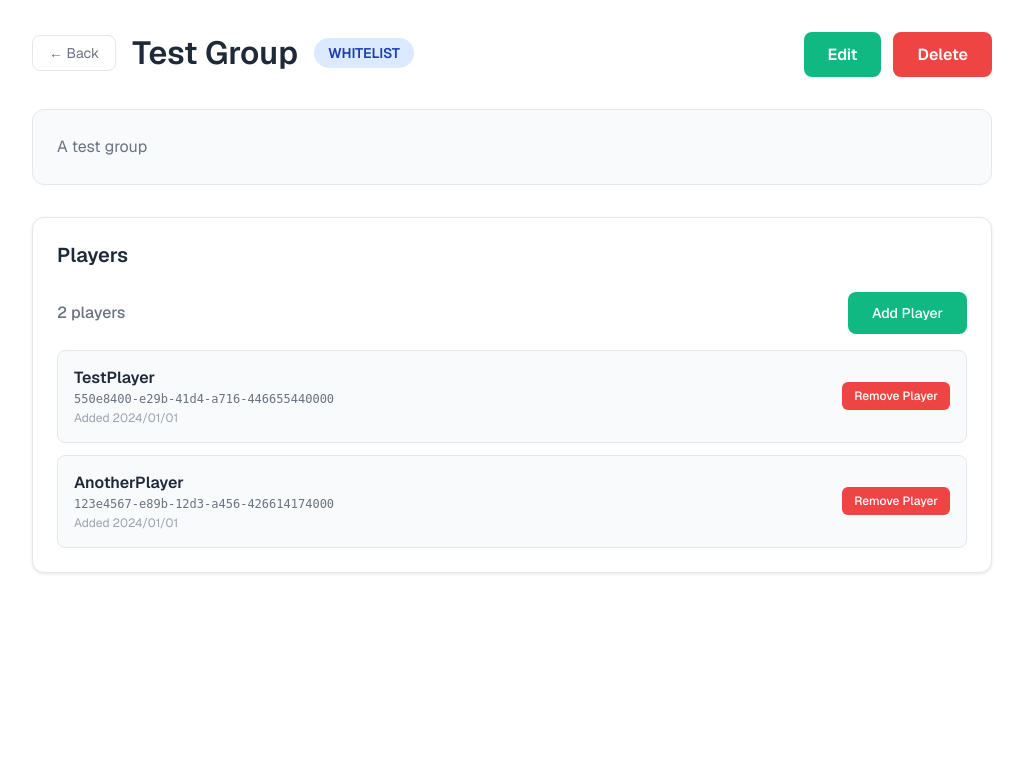
GroupDetailPage › Player Addition › should open add player modal
The width and height of the screenshot is (1024, 768).
Click the button "Add Player". click: (907, 313)
box: x1=848 y1=292 x2=967 y2=334
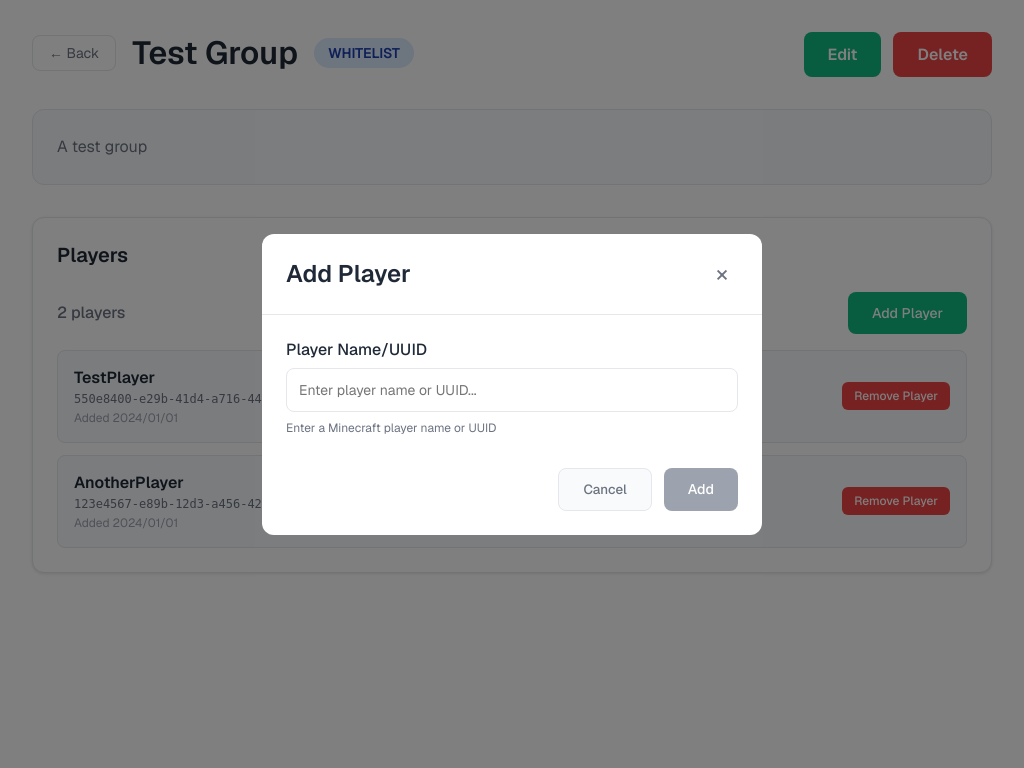
Check: the text "Player Name/UUID" is shown, box x1=286 y1=338 x2=427 y2=360
Check: the field with placeholder "Enter player name or UUID..." is shown, box x1=286 y1=368 x2=738 y2=412
